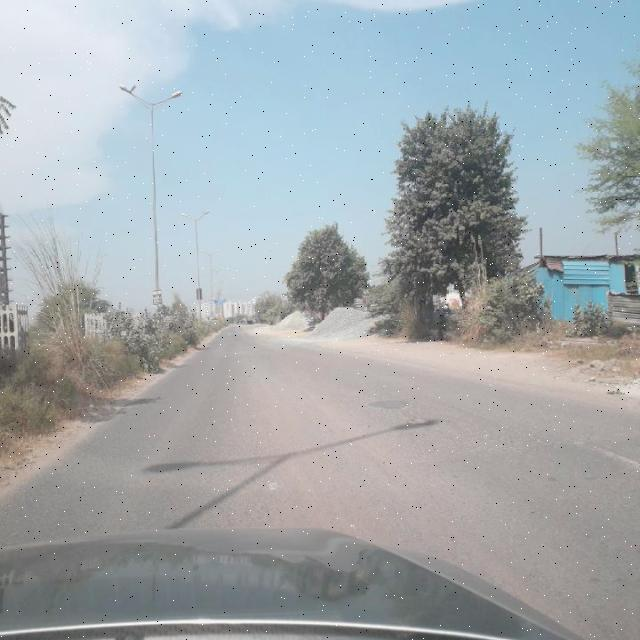D20: (338, 372, 636, 464)
